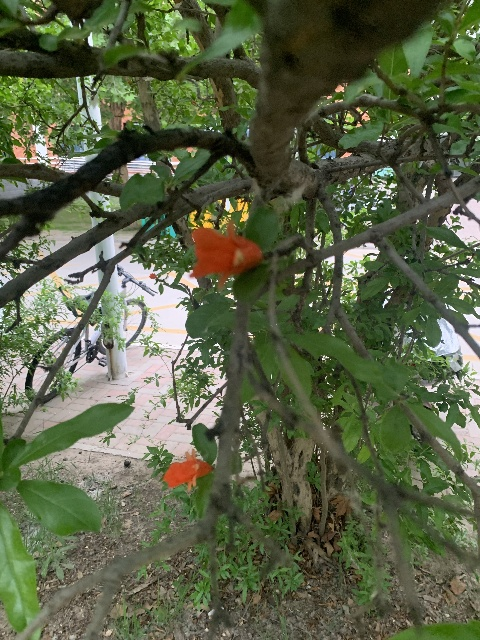flower: (189, 221, 263, 289), (162, 447, 213, 492), (148, 272, 157, 279)
